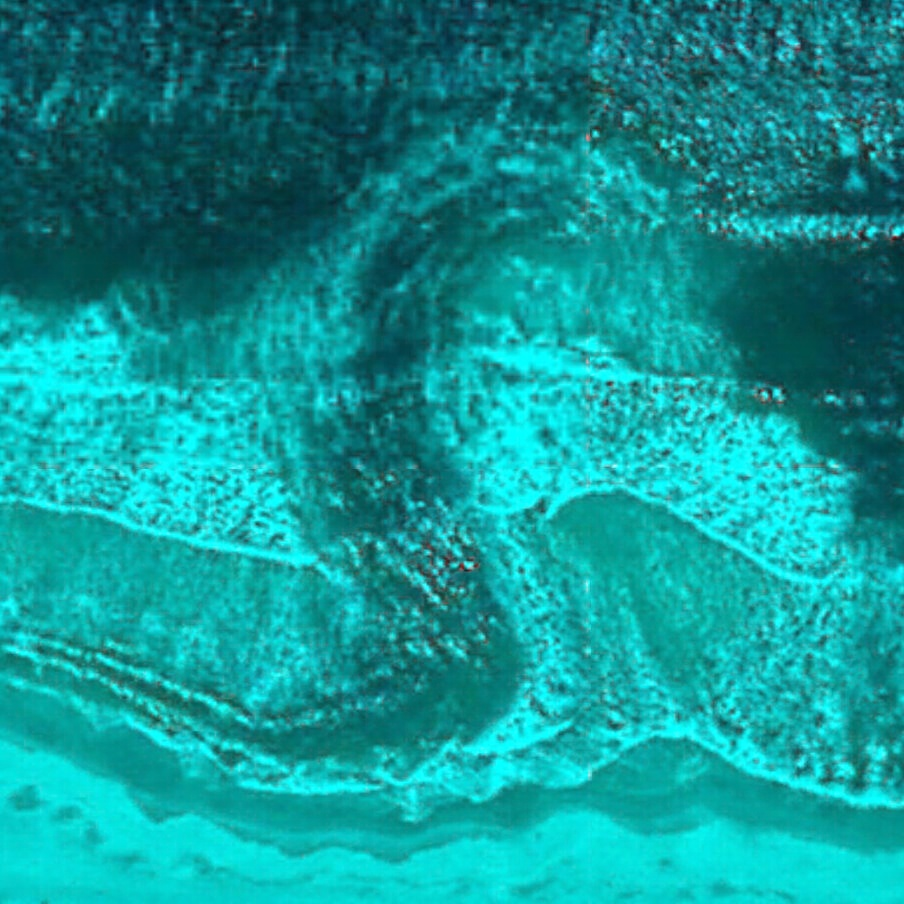rip_current: (187, 102, 622, 764)
